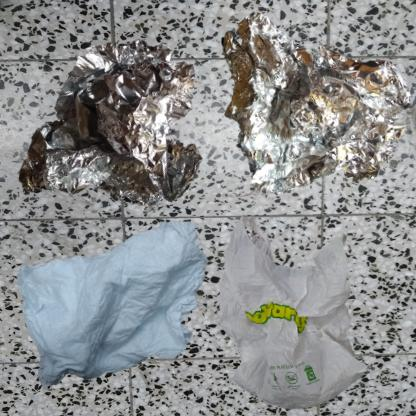aluminio: (10, 10, 259, 275), (213, 10, 416, 203)
bolsa: (213, 213, 377, 416)
papel: (10, 213, 239, 401)
